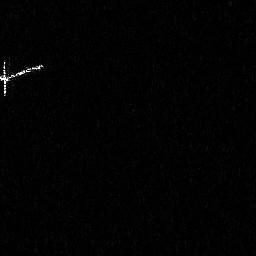ship: (1, 58, 46, 100)
